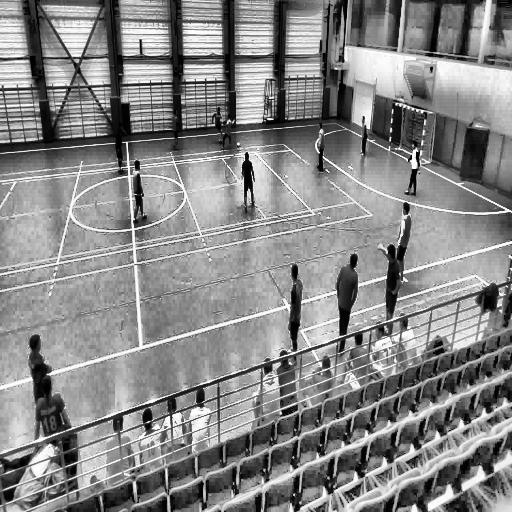ball: (236, 140, 241, 149)
player: (28, 333, 53, 439), (335, 252, 358, 354), (287, 263, 302, 364), (395, 202, 412, 279), (132, 157, 147, 225), (241, 151, 256, 215), (405, 139, 420, 197), (114, 120, 128, 175), (211, 105, 224, 147), (315, 122, 325, 172), (170, 106, 181, 150), (359, 115, 369, 159), (224, 113, 234, 150)
